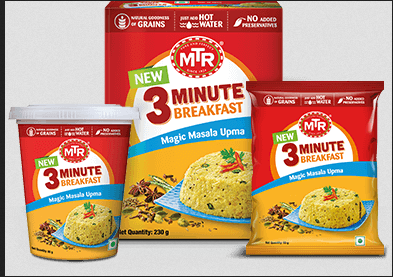VEG: (354, 235, 366, 246), (108, 238, 118, 251)
